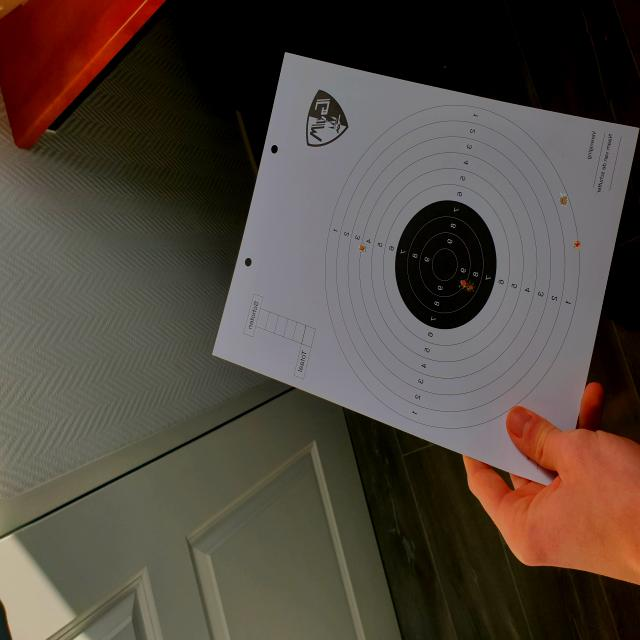1: (560, 192, 568, 206), (573, 239, 581, 251)
4: (358, 243, 367, 254)
8: (466, 281, 475, 293)
9: (458, 278, 468, 289)
Target: (322, 104, 581, 432)
black_contour: (394, 200, 496, 330)
